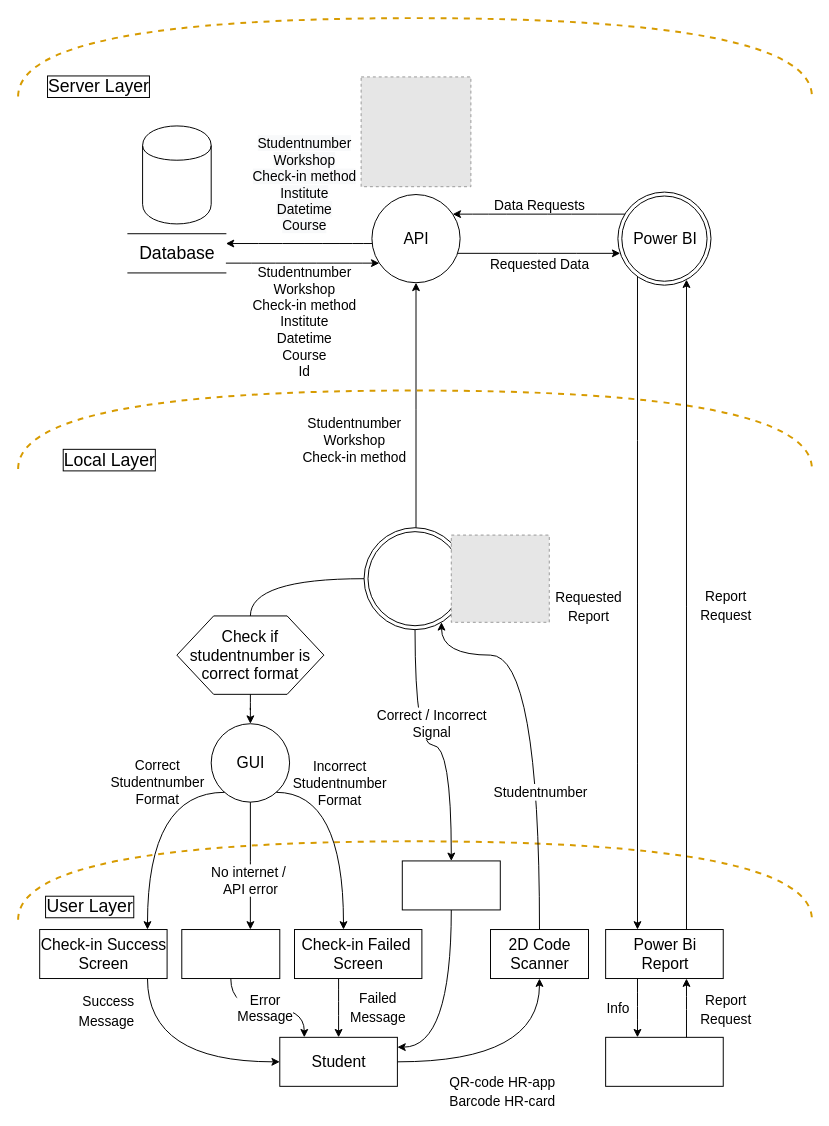
The diagram is 829 pixels wide and 1126 high, and some of its shapes have lost their labels. Grey dashed boxes stand in for pictures. Each missing label, with the box of its shape:
Administration Employee: (605, 1036, 723, 1086)
Buzzer: (401, 860, 500, 910)
Error Screen: (181, 929, 280, 979)
Scanner Computer: (363, 527, 466, 630)
